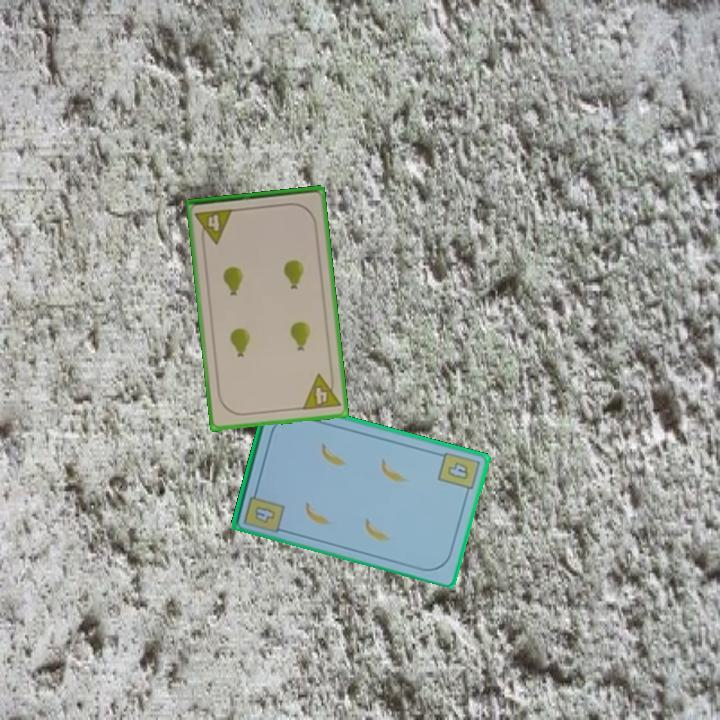4b: (434, 448, 482, 499), (251, 502, 279, 526)
4p: (299, 369, 343, 413), (192, 205, 236, 247)
